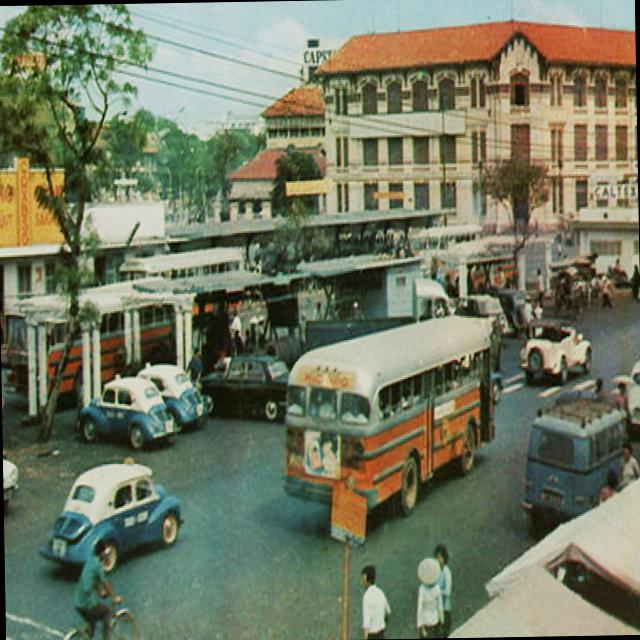Vehicle: (280, 308, 493, 512), (4, 296, 178, 406), (38, 457, 184, 574), (518, 395, 636, 537), (68, 374, 180, 449), (196, 351, 292, 424), (518, 316, 594, 386), (137, 361, 215, 429), (117, 246, 246, 280), (453, 292, 508, 336), (3, 450, 20, 518), (626, 358, 640, 440), (264, 338, 292, 367)
